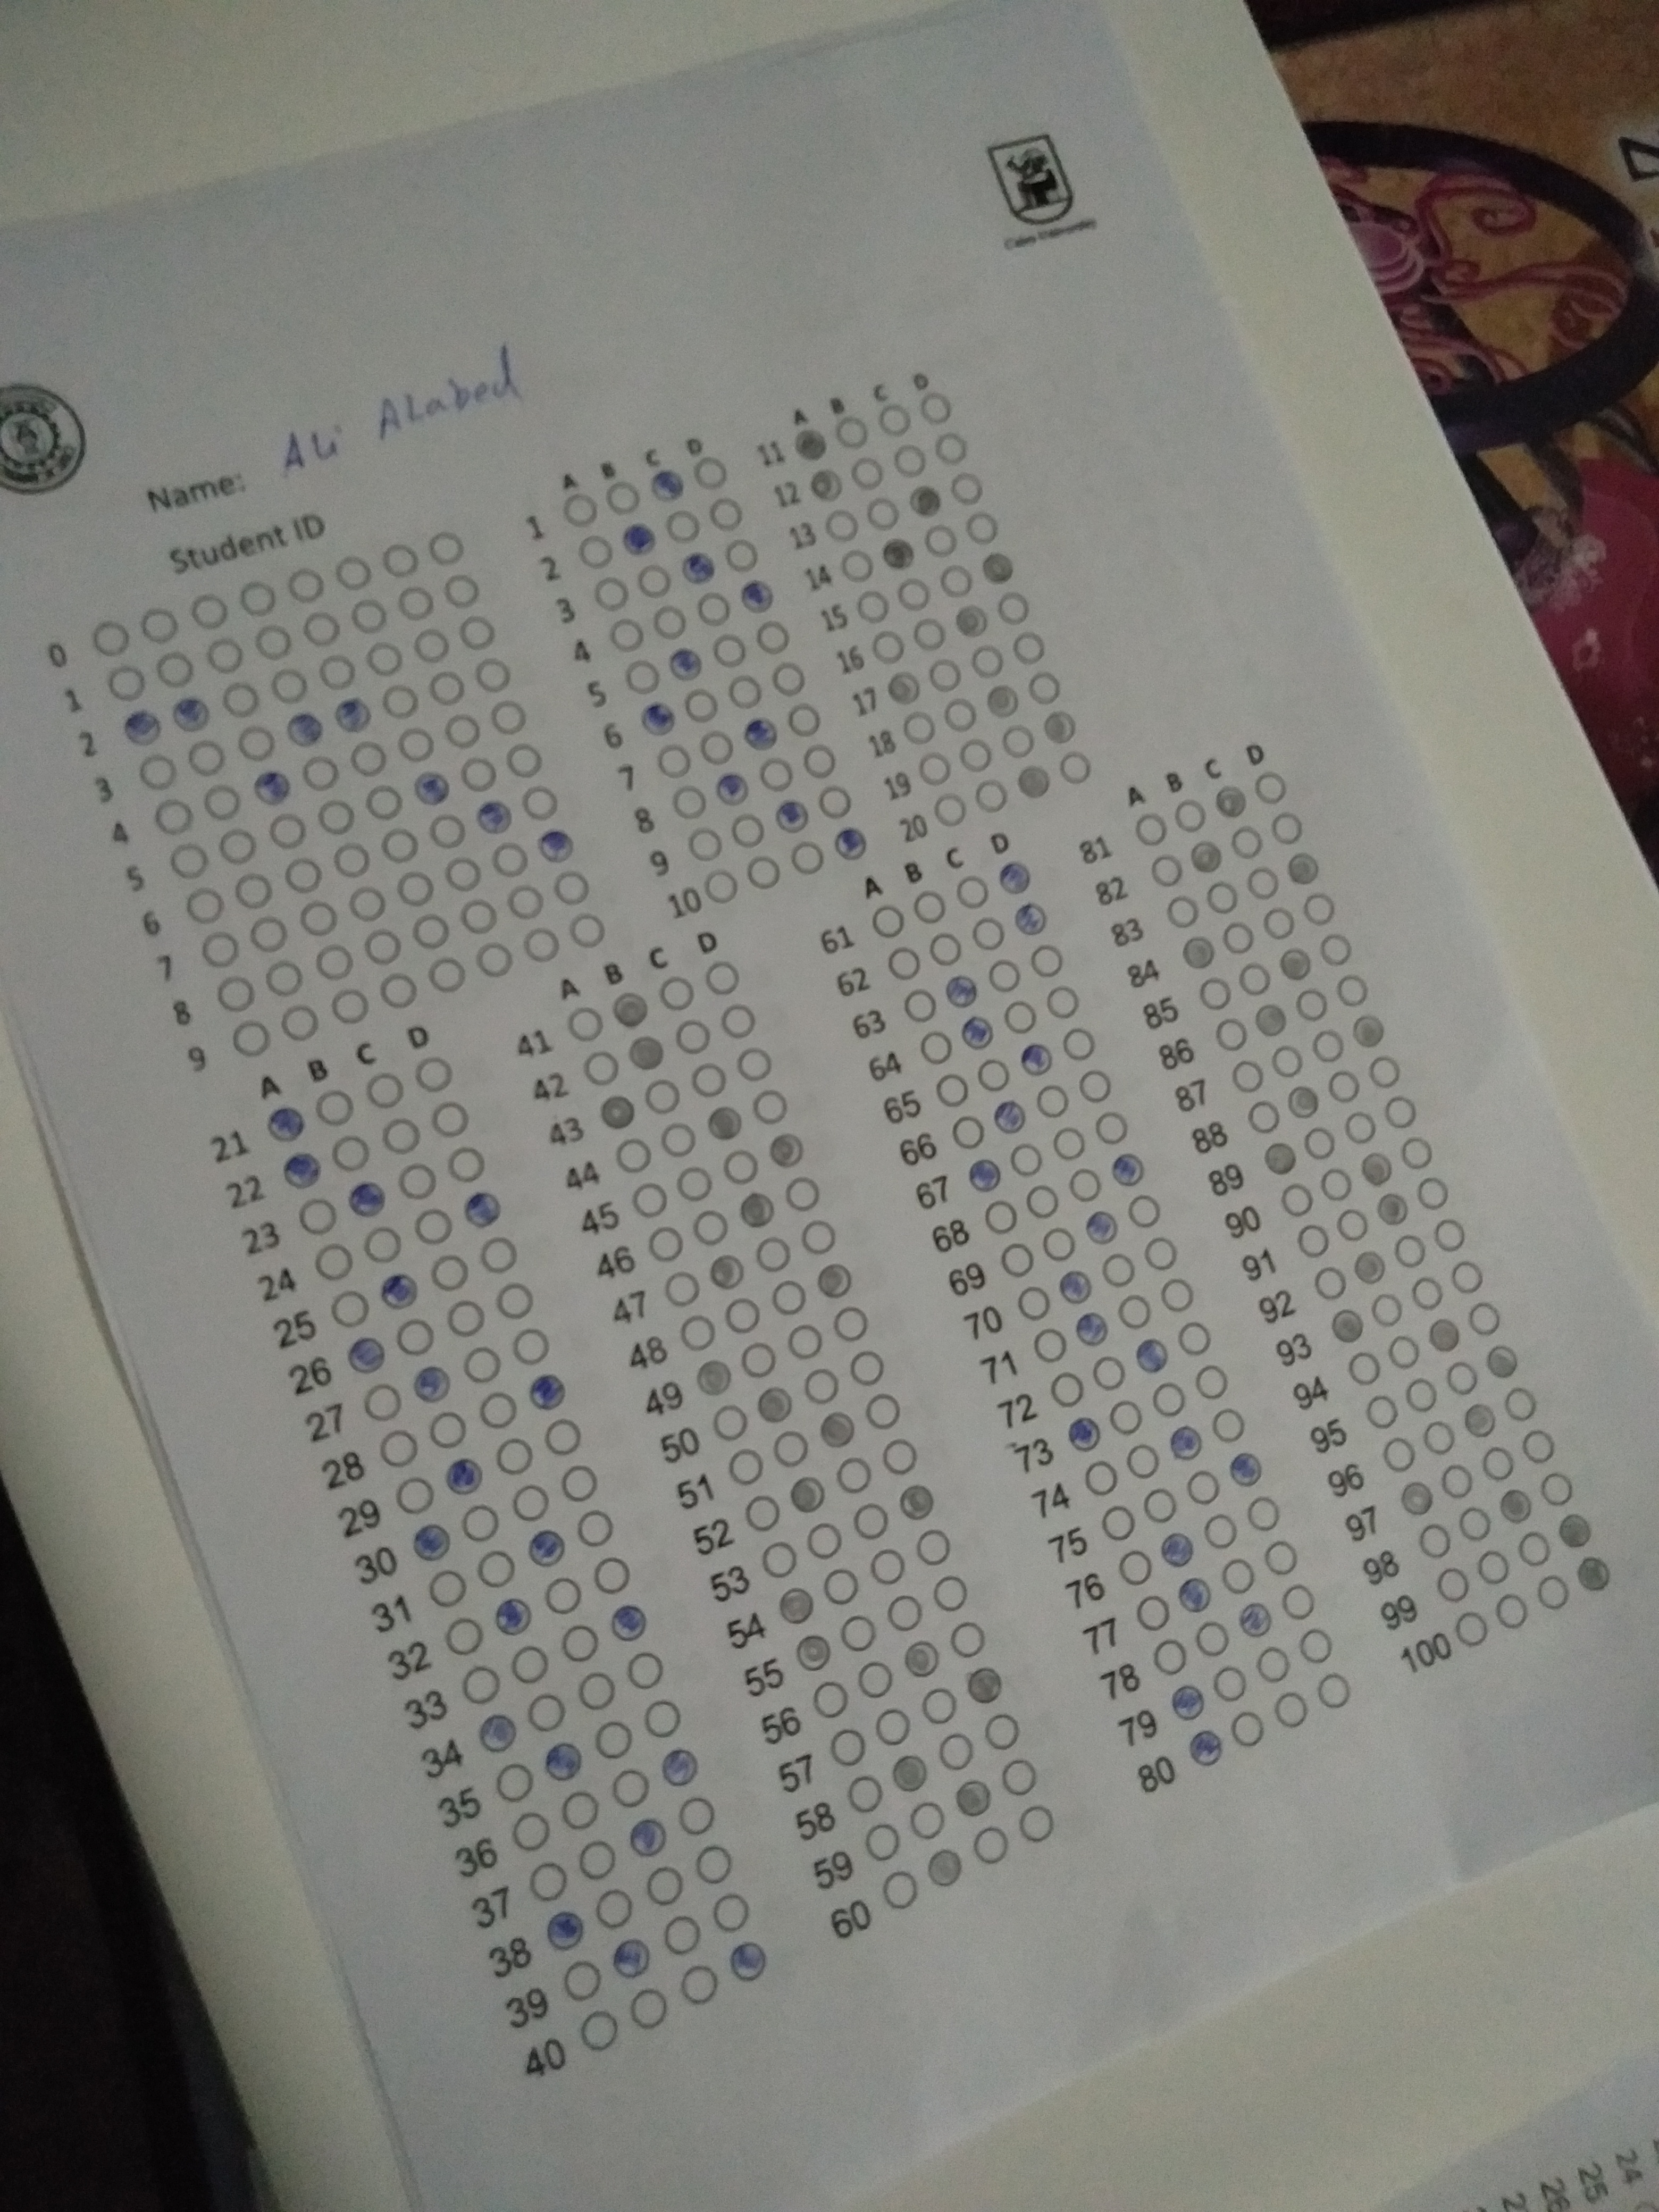not-c: (838, 1611, 880, 1653), (427, 1407, 469, 1449), (361, 1379, 403, 1421), (720, 1146, 762, 1188), (312, 1242, 354, 1284), (413, 1205, 455, 1247), (671, 1015, 713, 1057), (540, 1575, 582, 1616), (476, 1548, 518, 1590), (558, 1461, 599, 1503), (509, 1480, 551, 1522), (458, 1501, 500, 1543), (493, 1433, 535, 1475), (847, 1348, 889, 1390), (676, 1312, 718, 1353), (627, 1179, 669, 1221), (577, 2008, 619, 2050), (526, 1691, 568, 1733), (803, 1519, 845, 1561), (709, 1402, 751, 1444), (999, 1756, 1040, 1797), (936, 1730, 978, 1771), (809, 1679, 850, 1721), (542, 1416, 582, 1458), (477, 1390, 518, 1432), (378, 1426, 418, 1468), (511, 1325, 551, 1367), (462, 1345, 502, 1386), (749, 1087, 789, 1129), (659, 1118, 699, 1160), (613, 1136, 653, 1177), (493, 1280, 535, 1320), (394, 1315, 434, 1357), (429, 1251, 469, 1292), (329, 1289, 369, 1331), (446, 1143, 486, 1184), (362, 1223, 403, 1264), (296, 1195, 336, 1237), (397, 1158, 437, 1200), (688, 1059, 728, 1101), (641, 1075, 681, 1116), (580, 1047, 620, 1089), (430, 1097, 471, 1139), (380, 1111, 420, 1153), (329, 1132, 369, 1174), (657, 972, 697, 1014), (565, 1003, 605, 1045), (413, 1052, 455, 1092), (364, 1069, 404, 1111), (312, 1085, 352, 1127), (627, 1649, 667, 1691), (559, 1623, 599, 1665), (460, 1663, 500, 1705), (591, 1554, 631, 1595), (443, 1616, 483, 1658), (575, 1507, 615, 1548), (427, 1568, 467, 1609), (392, 1475, 434, 1515), (831, 1303, 871, 1345), (784, 1320, 824, 1362), (737, 1338, 777, 1379), (769, 1277, 809, 1318), (721, 1294, 762, 1336), (753, 1233, 793, 1275), (781, 1172, 821, 1214), (690, 1205, 730, 1247), (645, 1223, 685, 1264), (674, 1162, 714, 1204), (868, 1547, 908, 1588), (913, 1527, 953, 1569), (627, 1987, 667, 2029), (680, 1963, 720, 2005), (711, 1892, 751, 1933), (662, 1912, 702, 1954), (563, 1961, 603, 2003), (694, 1843, 734, 1885), (643, 1864, 683, 1905), (594, 1886, 634, 1928), (528, 1860, 568, 1902), (577, 1839, 617, 1881), (674, 1794, 714, 1836), (608, 1766, 648, 1808), (559, 1789, 599, 1831), (511, 1811, 551, 1853), (643, 1698, 683, 1740), (594, 1719, 634, 1761), (495, 1763, 535, 1804), (577, 1669, 617, 1710), (760, 1536, 800, 1578), (742, 1491, 782, 1533), (863, 1390, 903, 1432), (770, 1426, 810, 1468), (725, 1446, 765, 1487), (802, 1364, 842, 1406), (871, 1707, 913, 1747), (845, 1773, 885, 1815), (861, 1824, 901, 1865), (906, 1799, 946, 1841), (880, 1867, 920, 1909), (1018, 1803, 1058, 1844), (971, 1824, 1011, 1865), (981, 1712, 1021, 1754), (920, 1684, 960, 1726), (929, 1571, 969, 1613), (821, 1566, 861, 1608), (885, 1590, 925, 1632), (854, 1656, 894, 1698), (444, 1298, 484, 1338), (477, 1233, 518, 1273), (735, 1043, 775, 1083), (718, 1000, 758, 1040), (702, 956, 742, 996), (509, 1644, 549, 1684), (662, 1268, 702, 1308), (798, 1216, 838, 1256), (828, 1726, 868, 1766), (850, 1501, 890, 1541), (880, 1437, 920, 1477), (831, 1454, 871, 1494), (946, 1620, 986, 1660), (1133, 1592, 1171, 1634), (1194, 1618, 1232, 1660), (1199, 1510, 1237, 1552), (1140, 1484, 1178, 1526), (1380, 1433, 1419, 1475), (1439, 1460, 1478, 1501), (1415, 1521, 1453, 1562), (1474, 1547, 1513, 1588), (1516, 1527, 1554, 1569), (1211, 1662, 1249, 1703), (1534, 1571, 1572, 1613), (1114, 1548, 1152, 1588), (1150, 1637, 1188, 1677), (1220, 1555, 1258, 1595), (1100, 1503, 1138, 1543), (1183, 1467, 1222, 1507), (1175, 1318, 1213, 1359), (1089, 1352, 1127, 1392), (1049, 1371, 1087, 1411), (1150, 1379, 1188, 1420), (1107, 1397, 1145, 1437), (1192, 1362, 1230, 1402), (1208, 1407, 1246, 1447), (1124, 1440, 1162, 1480), (1082, 1458, 1121, 1498), (1244, 1493, 1283, 1533), (1420, 1416, 1459, 1456), (1504, 1385, 1542, 1425), (1521, 1426, 1560, 1467), (1478, 1444, 1516, 1484), (1455, 1503, 1493, 1543), (1434, 1564, 1473, 1604), (1539, 1468, 1577, 1508), (1262, 1538, 1300, 1578), (1281, 1581, 1319, 1622), (1255, 1644, 1293, 1684), (1316, 1670, 1354, 1710), (1272, 1691, 1310, 1731), (1229, 1710, 1267, 1750), (1493, 1590, 1532, 1630), (1453, 1609, 1492, 1649), (425, 529, 467, 566), (394, 585, 436, 622), (235, 725, 277, 761), (138, 752, 179, 789), (457, 615, 498, 651), (364, 641, 406, 678), (315, 653, 357, 690), (270, 665, 312, 702), (347, 597, 389, 634), (335, 554, 376, 590), (932, 428, 974, 465), (847, 455, 889, 491), (915, 388, 957, 425), (873, 401, 915, 437), (831, 415, 873, 451), (690, 455, 732, 491), (603, 481, 645, 517), (558, 493, 599, 529), (300, 611, 342, 648), (251, 624, 293, 660), (204, 637, 246, 674), (153, 650, 195, 686), (105, 665, 146, 702), (235, 580, 277, 617), (91, 620, 132, 657), (568, 913, 610, 949), (439, 571, 481, 608), (706, 495, 748, 531), (955, 737, 997, 773), (899, 709, 941, 745), (941, 695, 983, 732), (1011, 629, 1053, 665), (924, 657, 965, 693), (993, 589, 1035, 625), (866, 629, 908, 665), (938, 561, 979, 597), (894, 575, 936, 611), (946, 470, 988, 507), (864, 495, 906, 531), (823, 509, 864, 545), (728, 813, 770, 850), (755, 756, 796, 792), (652, 744, 694, 780), (695, 730, 737, 766), (634, 563, 676, 599), (589, 575, 631, 611), (720, 536, 762, 573), (769, 660, 810, 697), (782, 704, 824, 740), (814, 782, 856, 819), (247, 916, 289, 953), (199, 930, 240, 967), (427, 812, 469, 848), (329, 841, 371, 878), (364, 784, 406, 820), (315, 798, 357, 834), (443, 712, 484, 749), (267, 813, 308, 850), (166, 841, 207, 878), (490, 698, 532, 735), (152, 798, 193, 834), (472, 657, 514, 693), (425, 669, 467, 705), (683, 827, 725, 864), (622, 657, 664, 693), (605, 617, 647, 653), (474, 942, 516, 979), (376, 972, 418, 1008), (329, 988, 371, 1024), (228, 1021, 270, 1057), (263, 960, 305, 996), (361, 928, 403, 965), (213, 975, 254, 1012), (490, 843, 532, 880), (443, 855, 484, 892), (394, 869, 436, 906), (345, 885, 387, 921), (296, 900, 338, 937), (519, 784, 561, 820), (505, 742, 547, 779), (519, 927, 561, 963), (575, 533, 615, 570), (221, 681, 261, 718), (286, 568, 326, 604), (190, 594, 230, 631), (139, 606, 179, 643), (662, 509, 702, 545), (1056, 749, 1096, 786), (962, 509, 1002, 545), (836, 547, 877, 583), (725, 672, 765, 709), (708, 632, 748, 669), (802, 744, 842, 780), (380, 827, 420, 864), (183, 887, 223, 923), (742, 853, 782, 890), (505, 885, 545, 921), (411, 913, 451, 949), (1032, 1324, 1068, 1364), (1298, 1627, 1335, 1667), (380, 543, 422, 578), (186, 740, 228, 775), (411, 629, 453, 664), (889, 442, 931, 477), (931, 792, 972, 827), (971, 779, 1012, 813), (999, 723, 1040, 758), (969, 644, 1011, 679), (910, 615, 951, 650), (850, 589, 892, 624), (920, 524, 962, 559), (680, 688, 721, 723), (694, 590, 735, 625), (751, 620, 793, 655), (457, 756, 498, 791), (281, 857, 322, 892), (232, 873, 274, 907), (216, 829, 258, 864), (347, 740, 389, 775), (298, 756, 340, 791), (199, 784, 240, 819), (380, 683, 422, 718), (699, 869, 741, 904), (786, 841, 828, 876), (460, 897, 502, 932), (425, 956, 467, 991), (277, 1005, 319, 1040), (312, 944, 354, 979), (552, 869, 594, 904), (1317, 1165, 1354, 1204), (1410, 1273, 1446, 1312), (915, 752, 955, 787), (1025, 671, 1065, 705), (669, 786, 709, 820), (648, 604, 688, 639), (397, 726, 437, 761), (1016, 1285, 1053, 1322), (1392, 1233, 1429, 1270), (1295, 1223, 1331, 1259), (1279, 1183, 1316, 1219), (1236, 961, 1272, 998), (1213, 1017, 1249, 1054), (1230, 1057, 1267, 1094), (1269, 1043, 1305, 1080), (1310, 1028, 1347, 1064), (1244, 1099, 1281, 1136), (1342, 1111, 1378, 1148), (1302, 1125, 1338, 1162), (1382, 1094, 1419, 1130), (1448, 1259, 1485, 1296), (1443, 1359, 1480, 1395), (1246, 866, 1283, 902), (1166, 894, 1202, 930), (1148, 853, 1185, 890), (1229, 824, 1265, 860), (870, 904, 906, 941), (901, 989, 938, 1026), (1028, 942, 1065, 979), (1002, 1000, 1039, 1036), (1044, 984, 1080, 1021), (1051, 1125, 1087, 1162), (1025, 1183, 1061, 1219), (1093, 1109, 1129, 1146), (1066, 1167, 1103, 1204), (1126, 1193, 1162, 1230), (1100, 1251, 1136, 1287), (1302, 892, 1338, 928), (911, 888, 946, 927), (1312, 1264, 1347, 1301), (1335, 1207, 1370, 1244), (934, 1071, 969, 1108), (1317, 932, 1352, 968), (1197, 975, 1232, 1012), (1335, 972, 1370, 1008), (1295, 988, 1330, 1024), (1368, 1054, 1403, 1090), (1326, 1068, 1361, 1104), (1398, 1134, 1432, 1170), (1415, 1176, 1450, 1212), (1347, 1350, 1382, 1386), (1387, 1334, 1422, 1371), (1370, 1291, 1405, 1327), (1432, 1217, 1467, 1254), (1467, 1299, 1502, 1336), (1405, 1376, 1439, 1413), (1364, 1393, 1399, 1430), (1222, 920, 1256, 956), (1204, 880, 1239, 916), (1269, 810, 1303, 846), (1251, 768, 1286, 805), (1171, 796, 1206, 833), (1133, 812, 1168, 848), (972, 916, 1007, 953), (927, 932, 962, 968), (955, 874, 990, 911), (885, 944, 920, 981), (986, 958, 1021, 995), (1060, 1026, 1094, 1062), (1035, 1083, 1070, 1120), (1079, 1068, 1114, 1104), (1009, 1143, 1044, 1179), (983, 1200, 1018, 1237), (1000, 1242, 1035, 1278), (1040, 1226, 1075, 1263), (1143, 1235, 1178, 1271), (1117, 1294, 1152, 1331), (1159, 1278, 1194, 1315), (976, 1057, 1011, 1094), (918, 1029, 953, 1066), (1262, 904, 1297, 941), (950, 1115, 985, 1151)
taken-c: (727, 1940, 770, 1986), (608, 1937, 653, 1980), (542, 1911, 586, 1951), (627, 1817, 669, 1857), (985, 681, 1025, 721), (666, 644, 706, 685), (772, 796, 812, 836), (411, 768, 451, 808), (331, 695, 371, 735), (169, 691, 209, 732), (124, 707, 164, 747), (755, 1383, 793, 1425), (680, 549, 720, 587), (739, 578, 779, 617), (1044, 707, 1084, 745), (1014, 761, 1054, 799), (638, 700, 678, 738), (742, 716, 782, 754), (537, 827, 577, 866), (476, 798, 516, 836), (253, 768, 293, 806), (284, 711, 324, 749), (606, 1604, 647, 1642), (444, 1458, 484, 1496), (526, 1372, 566, 1411), (345, 1336, 385, 1374), (380, 1271, 420, 1310), (462, 1190, 502, 1228), (282, 1153, 322, 1191), (897, 1482, 938, 1521), (695, 1359, 735, 1397), (1168, 1683, 1208, 1721), (777, 1587, 817, 1625), (791, 1634, 831, 1672), (953, 1778, 993, 1817), (925, 1848, 964, 1888), (660, 1747, 701, 1785), (544, 1742, 584, 1780), (477, 1714, 518, 1752), (817, 1407, 854, 1449), (713, 770, 751, 808), (833, 824, 871, 862), (411, 1522, 450, 1561), (349, 1181, 387, 1219), (889, 1754, 927, 1792), (525, 1529, 565, 1566), (493, 1597, 533, 1634), (411, 1366, 451, 1402), (267, 1106, 307, 1143), (786, 1475, 826, 1512), (1185, 1730, 1225, 1766), (901, 1641, 941, 1677), (965, 1667, 1006, 1703), (1110, 1151, 1147, 1191), (953, 603, 990, 639), (979, 549, 1016, 585), (1213, 782, 1249, 819), (1011, 902, 1047, 939), (997, 860, 1033, 897), (887, 671, 924, 707), (817, 1263, 854, 1299), (739, 1191, 775, 1228), (706, 1104, 742, 1141), (627, 1033, 664, 1069), (612, 991, 648, 1028), (598, 1094, 634, 1130), (1375, 1191, 1412, 1228), (1574, 1555, 1610, 1592), (1253, 1001, 1290, 1038), (1262, 1141, 1298, 1177), (990, 1097, 1026, 1134), (906, 484, 943, 519), (708, 1254, 744, 1289), (767, 1132, 803, 1167), (1066, 1416, 1101, 1453), (1330, 1308, 1364, 1345), (1427, 1317, 1462, 1353), (1168, 1425, 1202, 1461), (1229, 1451, 1263, 1487), (1178, 1576, 1213, 1613), (1239, 1602, 1274, 1639), (1485, 1343, 1520, 1379), (1462, 1400, 1497, 1437), (1556, 1512, 1591, 1548), (960, 1015, 995, 1052), (1188, 838, 1223, 874), (1180, 934, 1215, 970), (1286, 850, 1321, 887), (1279, 944, 1314, 981), (1352, 1014, 1387, 1050), (1286, 1083, 1321, 1120), (1359, 1150, 1394, 1186), (1019, 1040, 1054, 1076), (1082, 1211, 1117, 1247), (1073, 1310, 1108, 1346), (1134, 1338, 1169, 1374), (622, 523, 657, 557), (650, 469, 685, 503), (793, 427, 828, 462), (1351, 1251, 1385, 1285), (1157, 1533, 1192, 1568), (1401, 1482, 1436, 1517), (1499, 1489, 1534, 1524), (943, 974, 978, 1008), (1058, 1270, 1093, 1305), (809, 469, 845, 502), (969, 1157, 1002, 1193)
